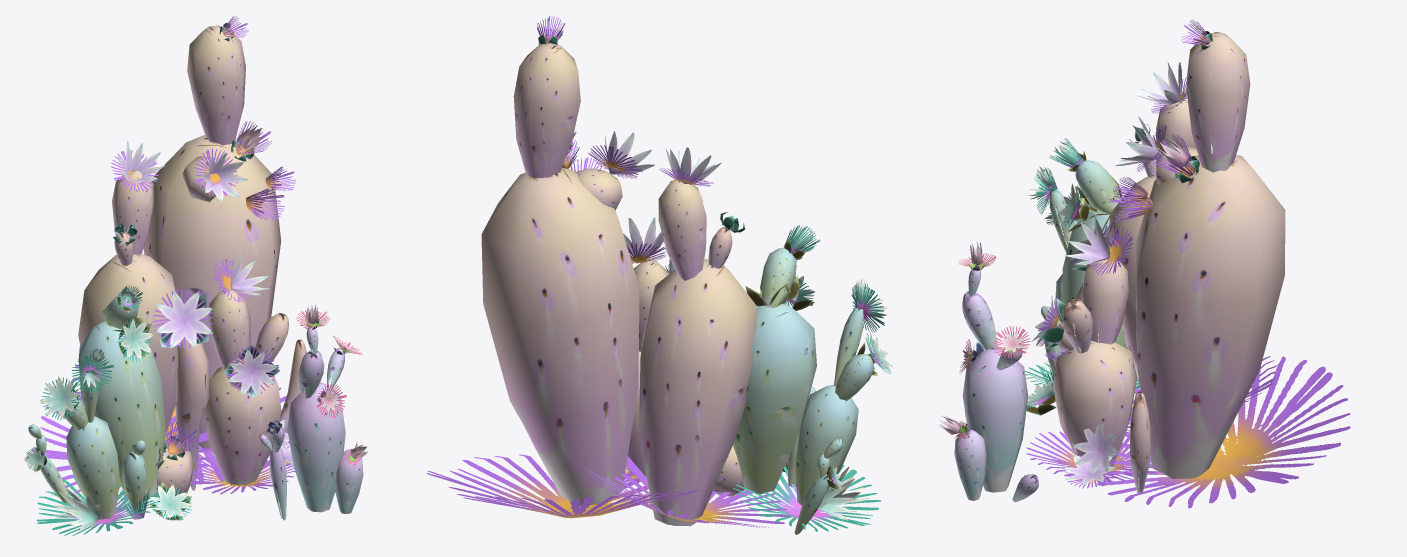
The picture shows the model from 3 angles, left to right: view 1: azimuth 30°, elevation 25°; view 2: azimuth 150°, elevation 25°; view 3: azimuth 270°, elevation 25°; orthographic projection. The views are drawn at different scales.
Visible parts, largest first — view 1: B03; view 2: B03; view 3: B03.
Boxes of the visible parts, x1,y1,x2,y2 form: B03: (24, 16, 367, 535); B03: (426, 16, 893, 534); B03: (938, 20, 1350, 508).
Size of the model in its own units: 966 by 1129 by 972.
